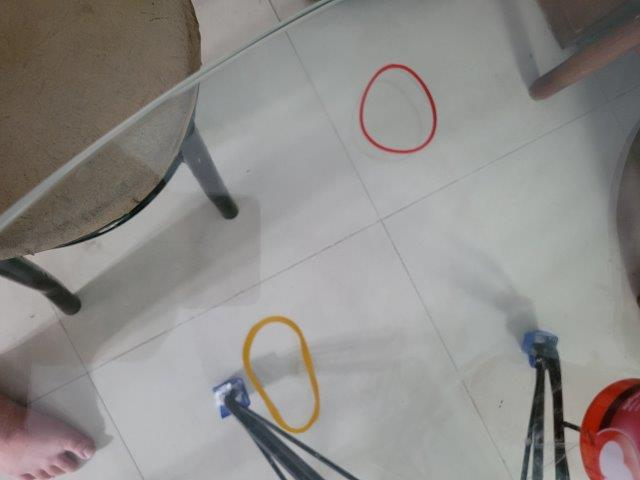karet: (242, 317, 322, 433), (363, 65, 438, 156)
